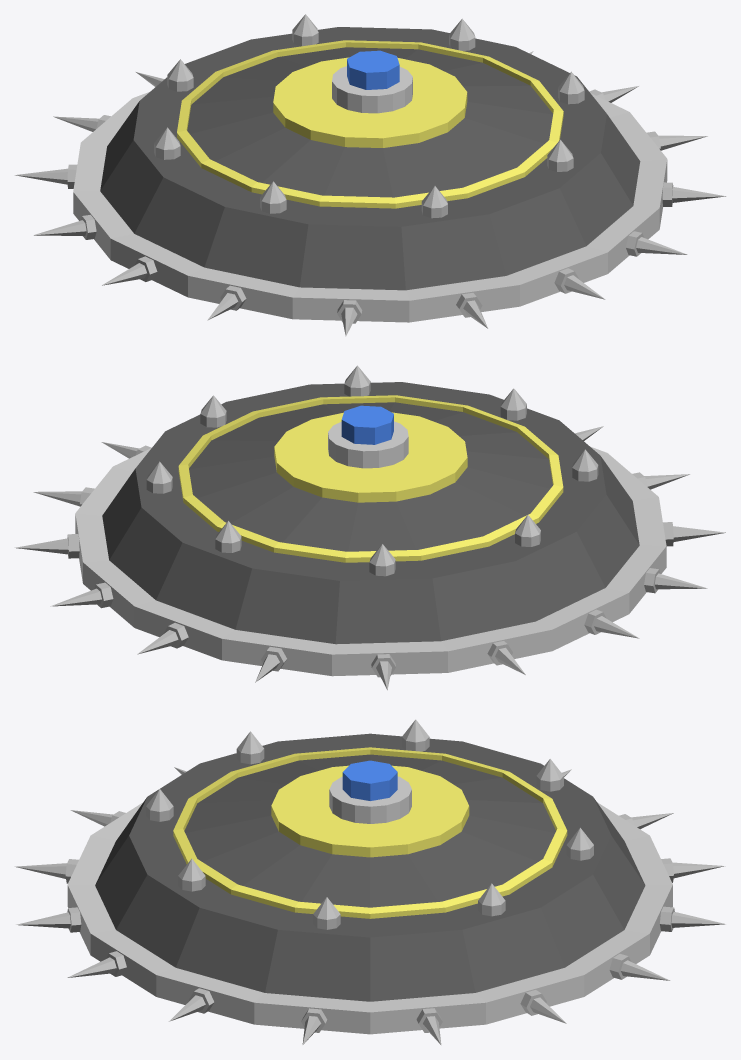
File: Shield_5_e_gr.fbx
The picture shows the model from 3 angles, top to bottom: view 1: azimuth 30°, elevation 25°; view 2: azimuth 150°, elevation 25°; view 3: azimuth 270°, elevation 25°; orthographic projection.
Visible parts, largest first — view 1: Circle.443, Circle.444, Circle.445, Circle.457, Cone.614, Circle.446, Circle.447, Circle.449, Circle.448, Circle.456, Circle.455, Circle.452 (+3 smaller); view 2: Circle.443, Circle.444, Circle.445, Circle.457, Cone.614, Circle.446, Circle.447, Circle.456, Circle.452, Circle.451, Circle.449, Circle.455 (+3 smaller); view 3: Circle.443, Circle.444, Circle.445, Circle.457, Cone.614, Circle.446, Circle.447, Circle.456, Circle.455, Circle.452, Circle.453, Circle.450 (+3 smaller).
Part boxes in pixels (x1,y1,x2,y2): Circle.443: [100, 27, 640, 290]; Circle.444: [73, 92, 667, 322]; Circle.445: [273, 57, 467, 147]; Circle.457: [177, 40, 563, 208]; Cone.614: [14, 51, 725, 336]; Circle.446: [332, 66, 412, 113]; Circle.447: [347, 50, 399, 89]; Circle.449: [167, 59, 193, 91]; Circle.448: [154, 127, 180, 159]; Circle.456: [260, 181, 286, 213]; Circle.455: [421, 186, 447, 218]; Circle.452: [558, 71, 584, 104]; Circle.443: [102, 382, 639, 644]; Circle.444: [75, 446, 666, 676]; Circle.445: [274, 412, 467, 502]; Circle.457: [178, 395, 563, 562]; Cone.614: [14, 426, 725, 690]; Circle.446: [328, 421, 408, 468]; Circle.447: [341, 405, 393, 444]; Circle.456: [572, 449, 598, 481]; Circle.452: [200, 395, 226, 427]; Circle.451: [146, 461, 172, 493]; Circle.449: [369, 544, 395, 576]; Circle.455: [500, 388, 526, 420]; Circle.443: [95, 733, 645, 1001]; Circle.444: [67, 802, 672, 1034]; Circle.445: [271, 765, 469, 857]; Circle.457: [173, 747, 567, 918]; Cone.614: [15, 767, 725, 1044]; Circle.446: [329, 776, 411, 823]; Circle.447: [342, 760, 397, 800]; Circle.456: [236, 731, 264, 764]; Circle.455: [146, 789, 173, 821]; Circle.452: [313, 897, 340, 929]; Circle.453: [178, 858, 205, 891]; Circle.450: [566, 827, 593, 860].
Bounding box in the file's own units: 64.58 × 19.57 × 64.77.
